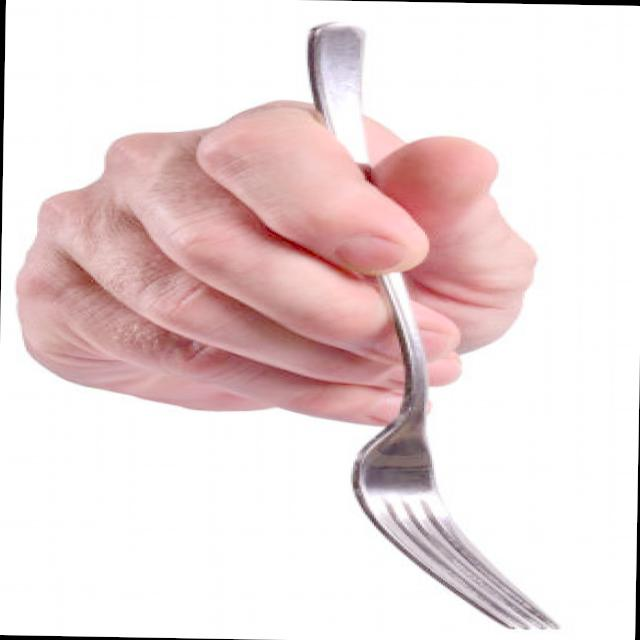fork: (297, 21, 576, 636)
